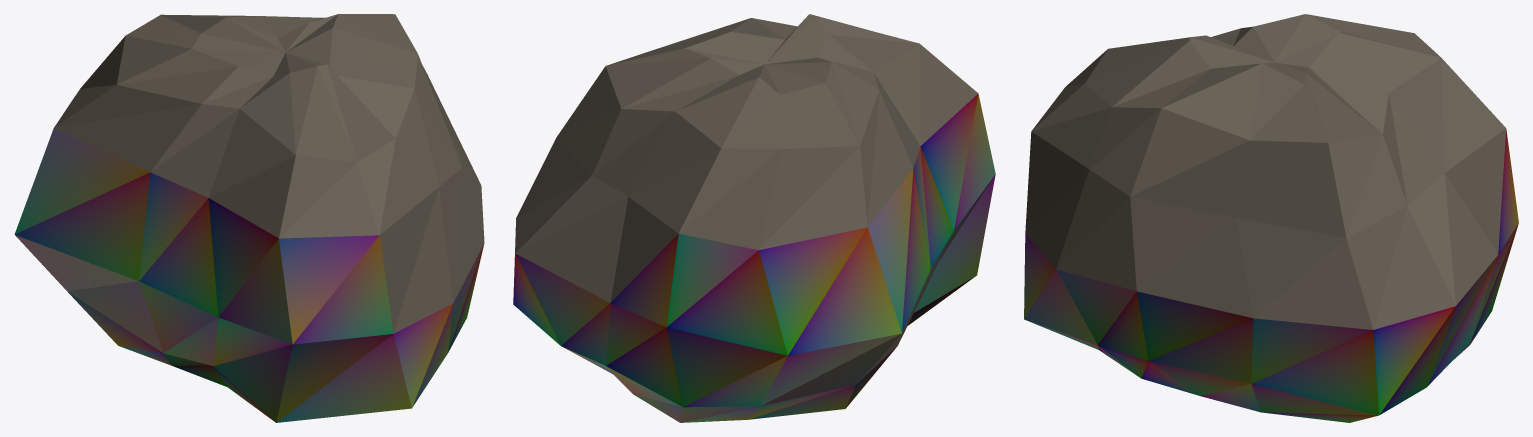
File: rock_04.glb
The picture shows the model from 3 angles, left to right: view 1: azimuth 30°, elevation 25°; view 2: azimuth 150°, elevation 25°; view 3: azimuth 270°, elevation 25°; orthographic projection. The views are drawn at different scales.
Parts seen in each view (by area): view 1: rock_04; view 2: rock_04; view 3: rock_04.
Boxes of the visible parts, x1,y1,x2,y2 form: rock_04: (14,14,484,422); rock_04: (513,14,995,422); rock_04: (1024,14,1518,422).
Size of the model in its own units: 0.9629 by 0.7013 by 1.02.
